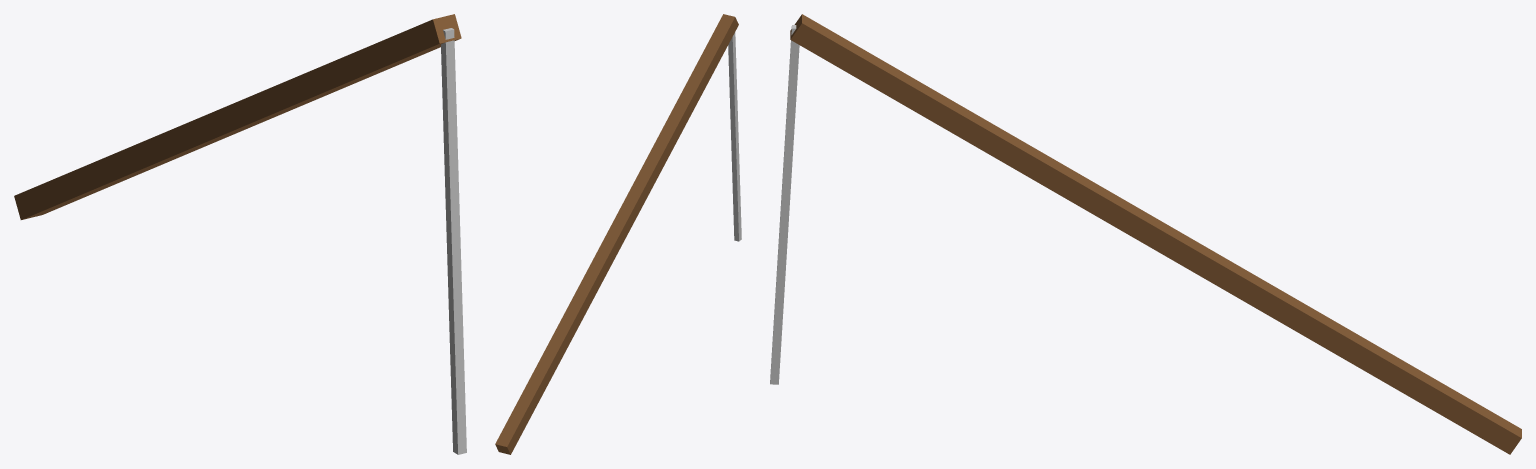
File: tool_rod.glb
3 views of the same model, side by side, from view 1: azimuth 30°, elevation 25°; view 2: azimuth 150°, elevation 25°; view 3: azimuth 270°, elevation 25° (orthographic). The views are drawn at different scales.
Visible parts, largest first — view 1: tool_rod; view 2: tool_rod; view 3: tool_rod.
Part boxes in pixels (bbox=[...]): tool_rod: bbox=[14, 14, 466, 454]; tool_rod: bbox=[495, 14, 741, 454]; tool_rod: bbox=[770, 14, 1521, 454].
Size of the model in its own units: 0.01 by 0.2184 by 0.3447.
